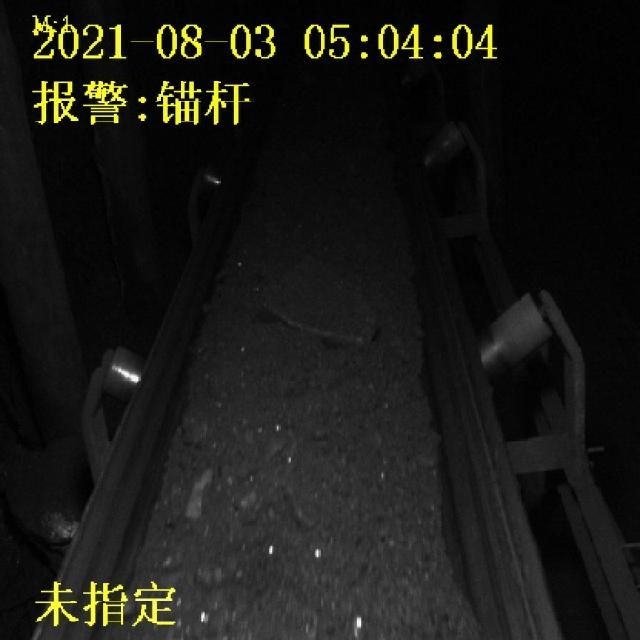large_sized_coal: (267, 253, 378, 344)
